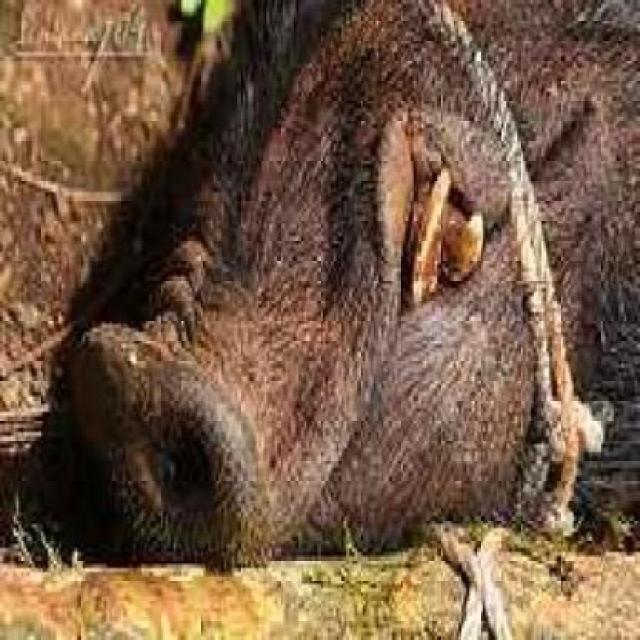Boar: (83, 0, 640, 638)
